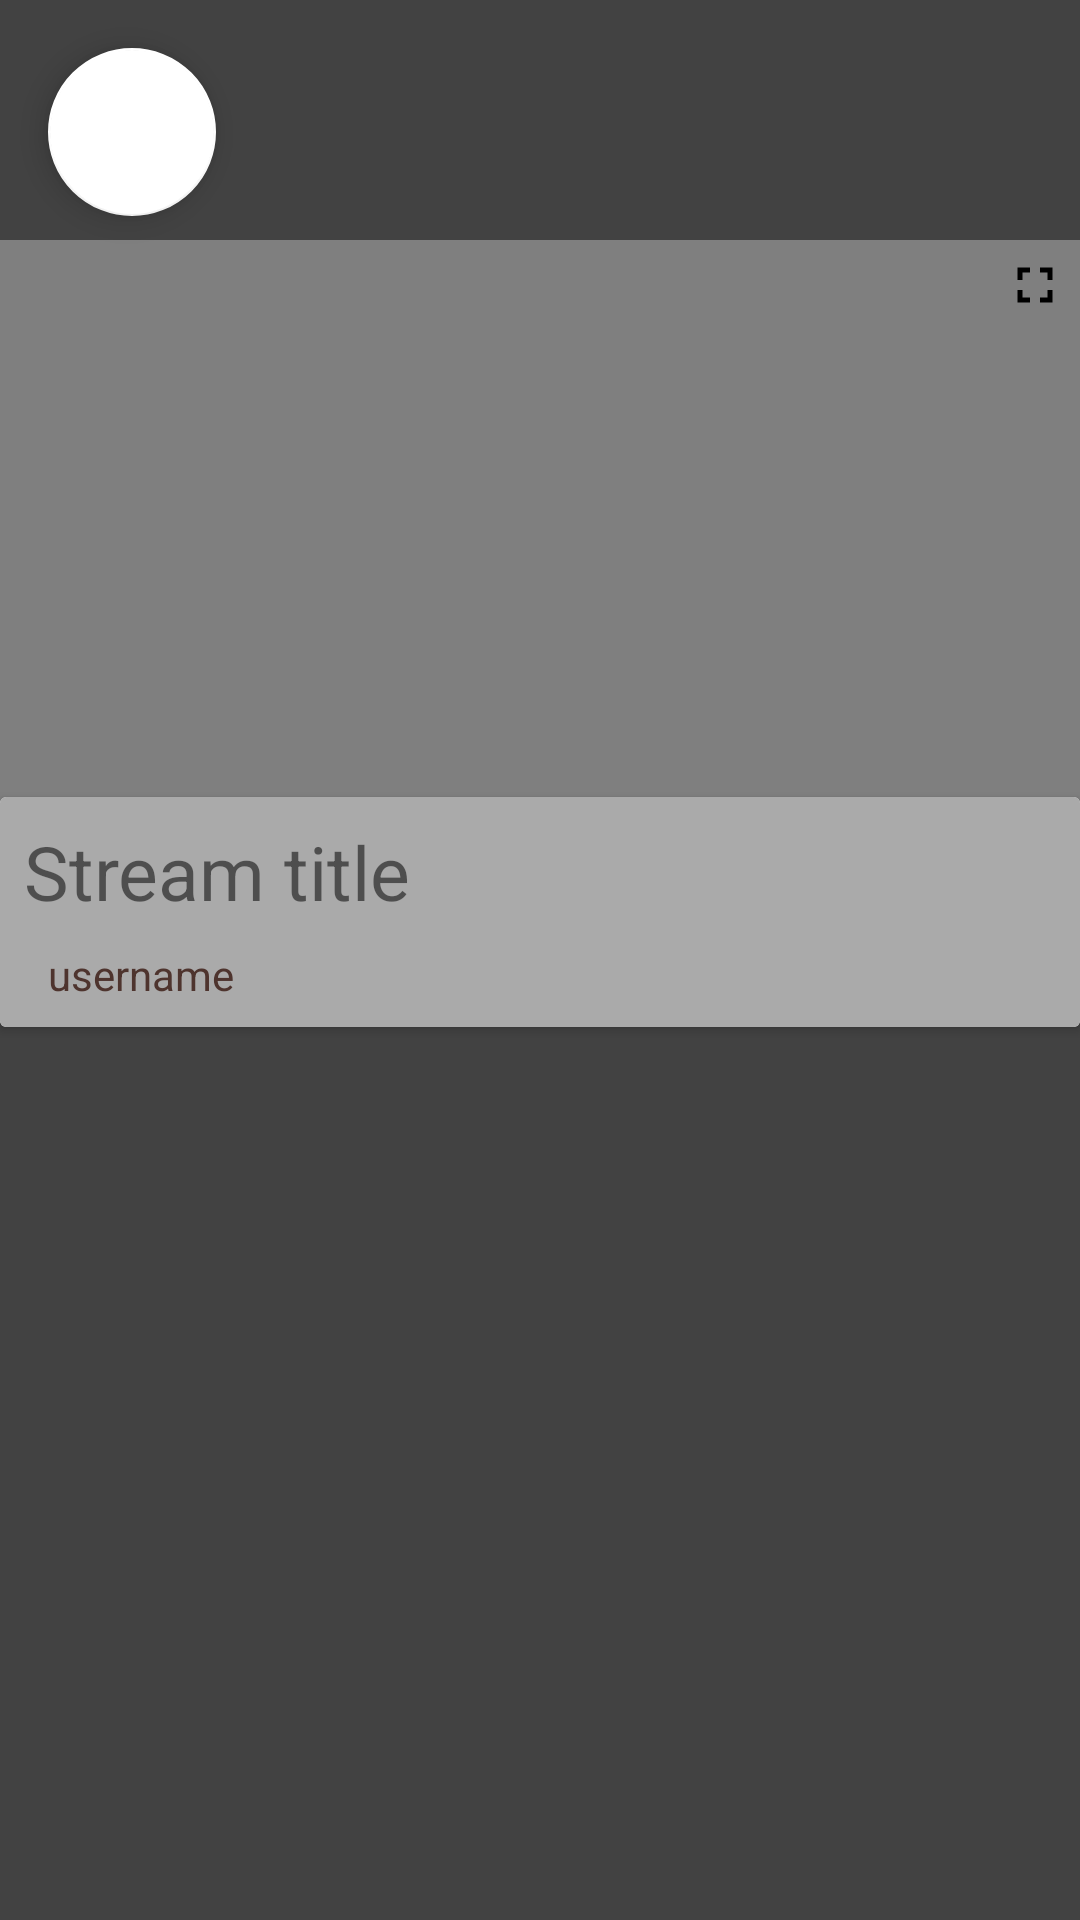

Icons on this 1080w x 1920h Android screen, each with its box as (x1, y1, x2, y2):
fullscreen: (1017, 267, 1053, 303)
